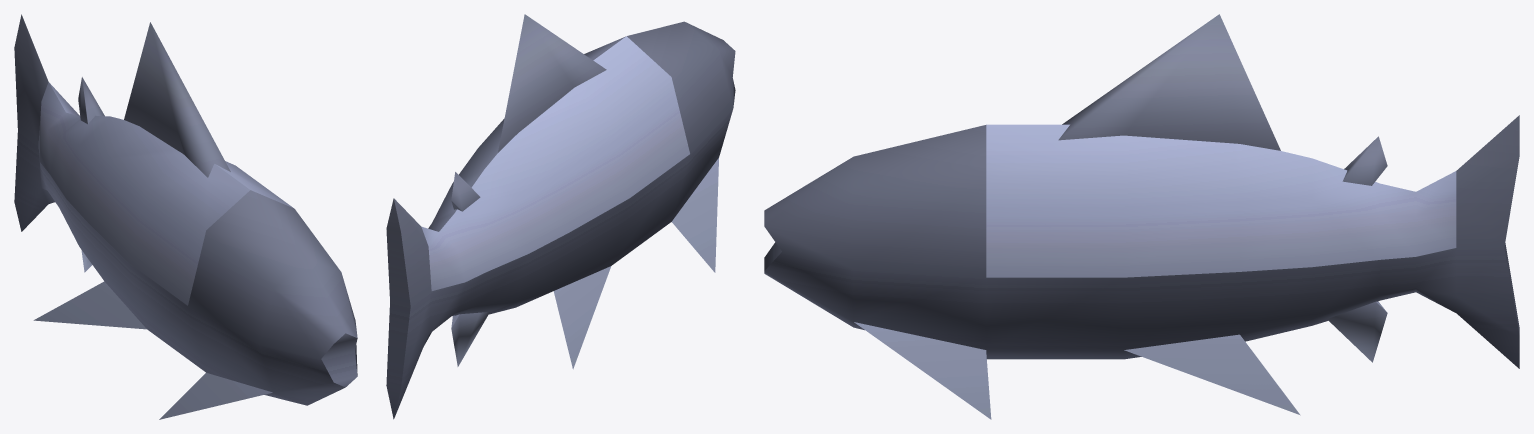
The model's file is fish_food.glb.
3 views of the same model, side by side, from view 1: azimuth 30°, elevation 25°; view 2: azimuth 150°, elevation 25°; view 3: azimuth 270°, elevation 25° (orthographic). The views are drawn at different scales.
Parts seen in each view (by area): view 1: fish; view 2: fish; view 3: fish.
Part boxes in pixels (left/top/right/bottom): fish: left=14, top=14, right=357, bottom=419; fish: left=386, top=14, right=735, bottom=419; fish: left=764, top=14, right=1519, bottom=419.
Size of the model in its own units: 0.1978 by 0.3222 by 0.6208.
1 material, 1 textured.
